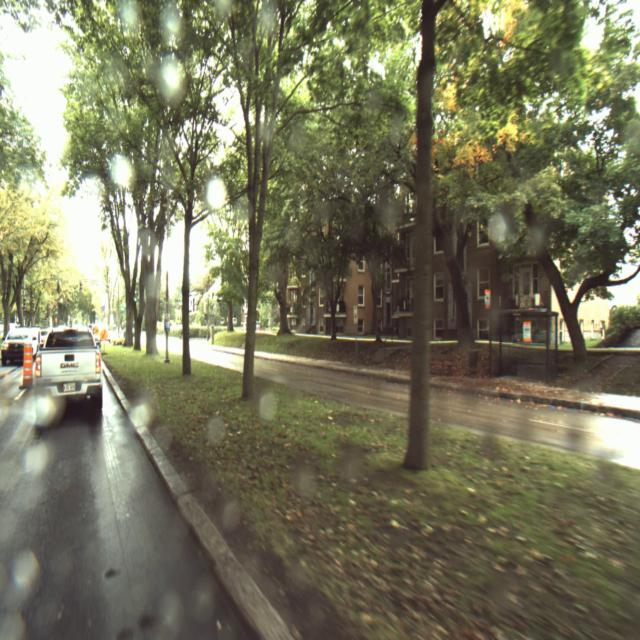car: (36, 327, 104, 424), (1, 328, 41, 365)
